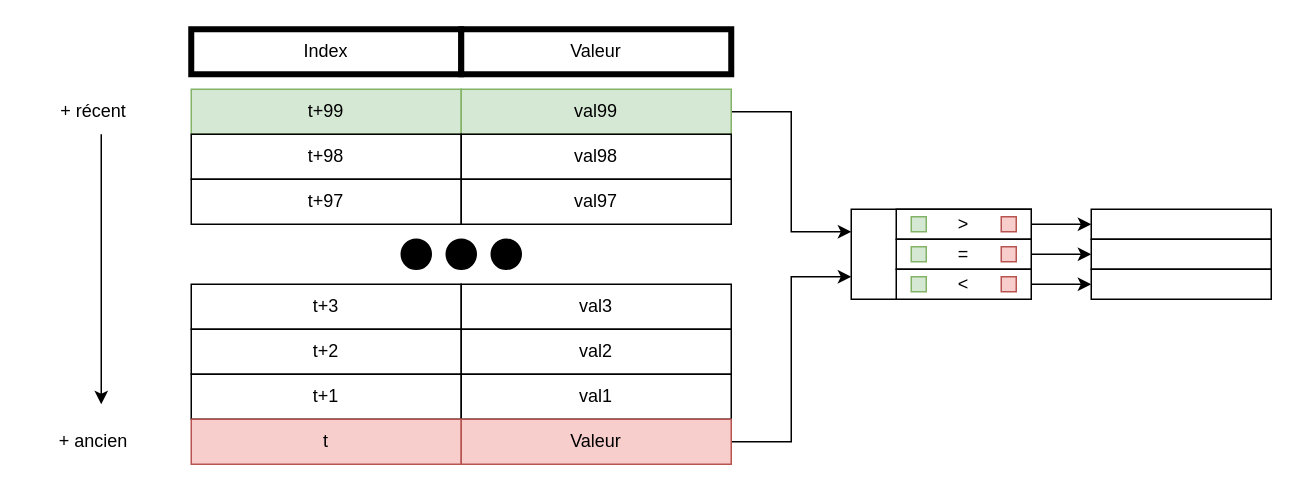
Image size: 1298x491. Some labels were removed from this diagram. Each missing label, with the box of its shape:
retourne 0: (1090, 268, 1271, 299)
retourne 1: (1090, 238, 1271, 269)
retourne 2: (1090, 208, 1271, 239)
